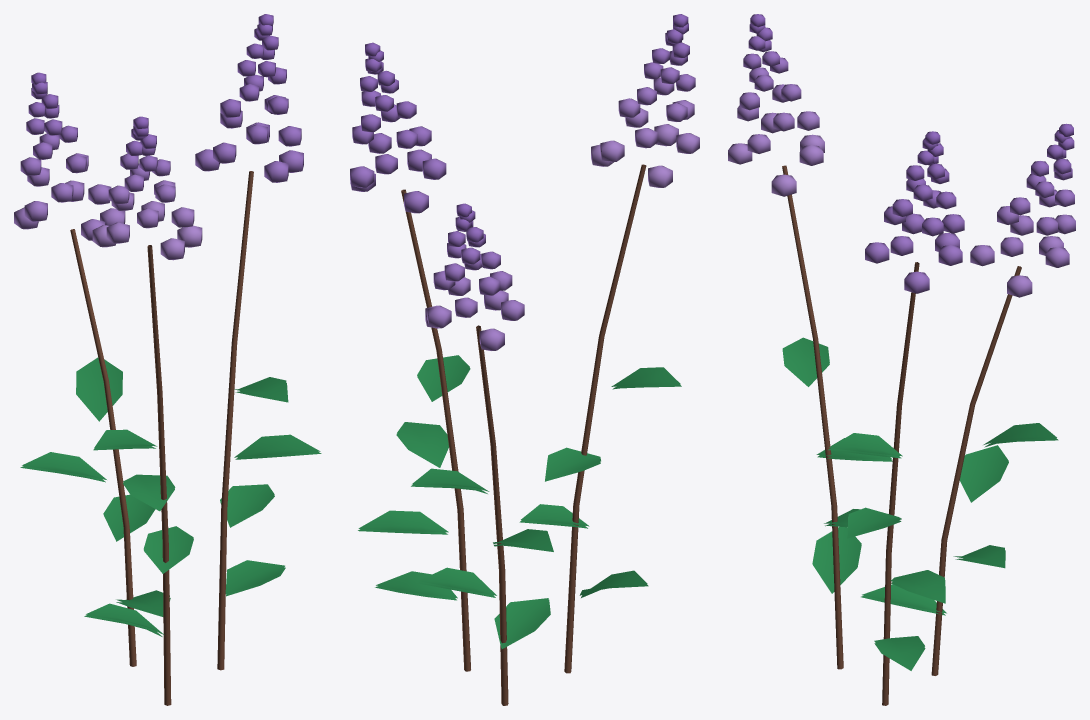
File: ing_lilac.gltf
3 views of the same model, side by side, from view 1: azimuth 30°, elevation 25°; view 2: azimuth 150°, elevation 25°; view 3: azimuth 270°, elevation 25° (orthographic). The views are drawn at different scales.
Visible parts, largest first — view 1: ing_lilac; view 2: ing_lilac; view 3: ing_lilac.
Part boxes in pixels (x1,y1,x2,y2): ing_lilac: [14, 14, 321, 705]; ing_lilac: [350, 14, 699, 705]; ing_lilac: [728, 14, 1075, 705].
Size of what is drawn, in the model's own units: 0.3569 by 0.8049 by 0.4083.
